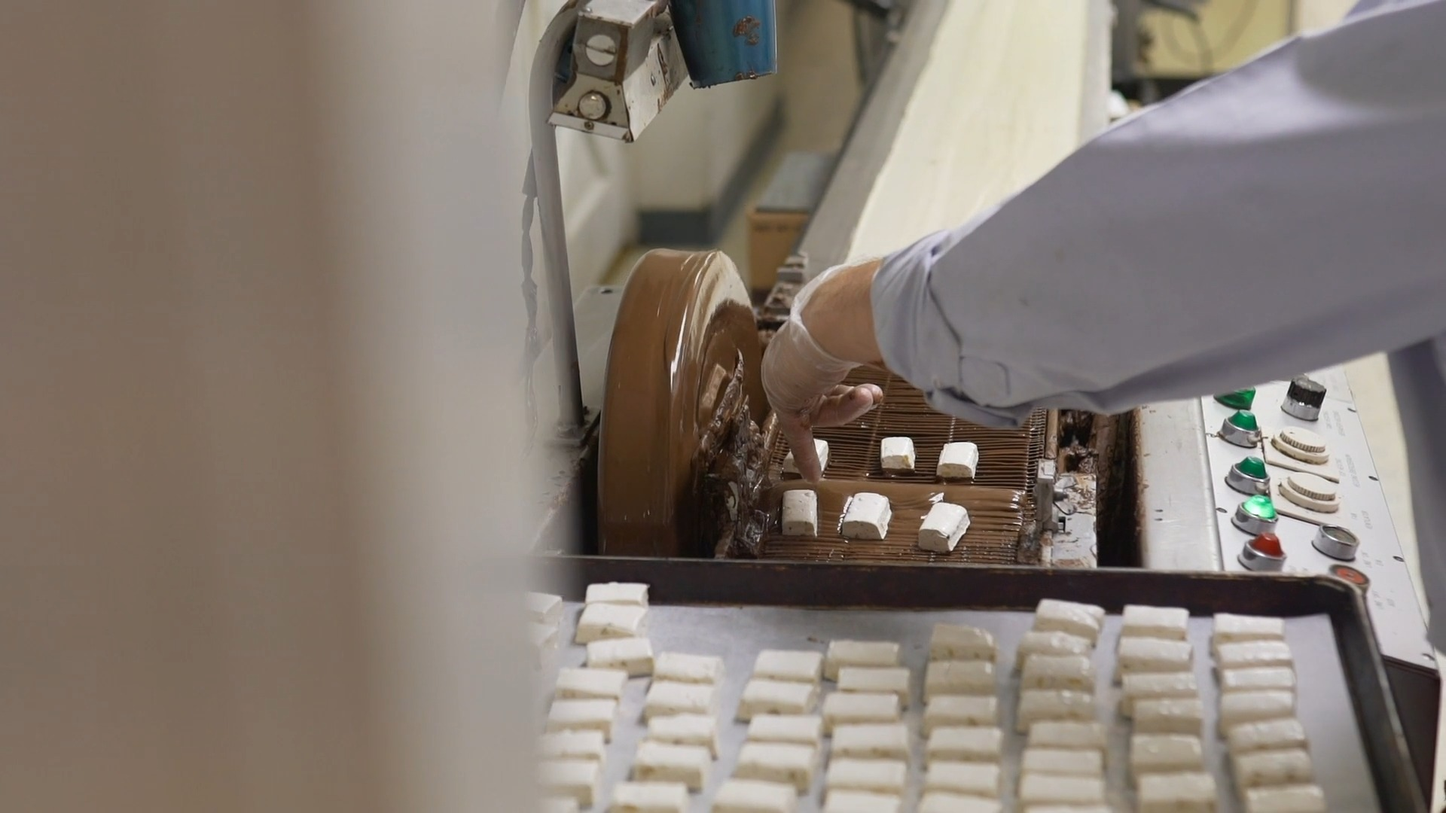gloves: (747, 273, 903, 505)
